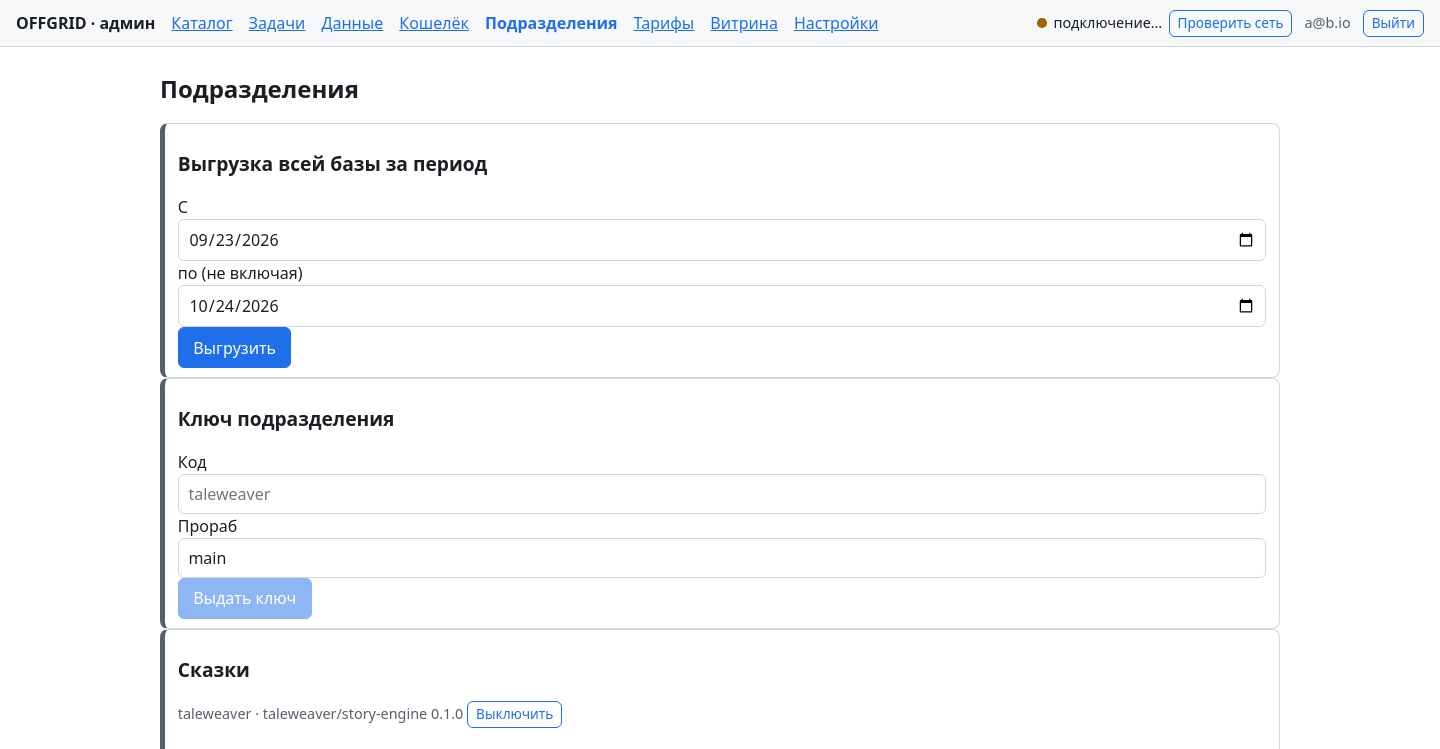
export downloads the whole database for the chosen period
This screenshot has width=1440, height=749.
Expected: the heading "Сказки" is shown, [178,656,250,683]
Type "2026-10-01" into the date field labelled "С" at x=722, y=240, box [178,219,1266,261]
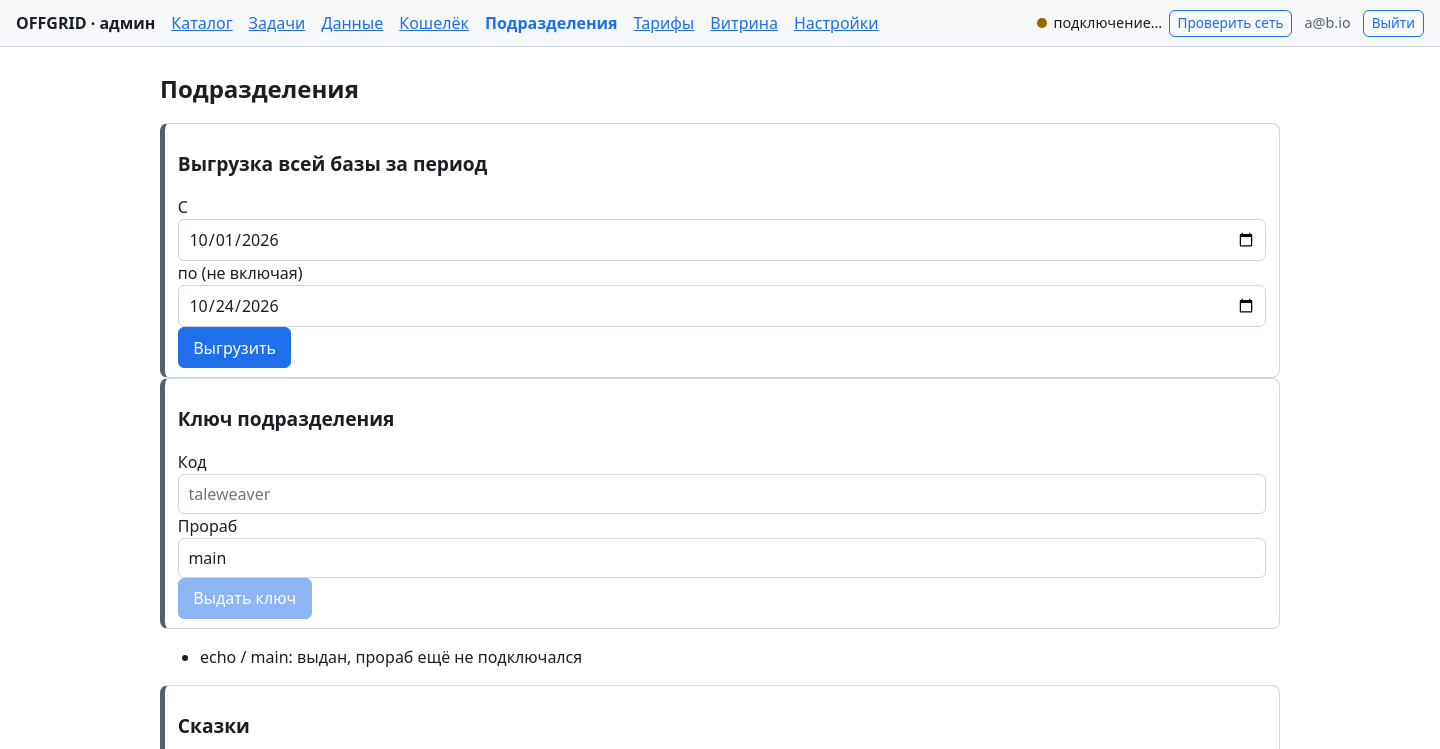
Type "2026-10-16" into the date field labelled "по (не включая)" at x=722, y=306, box [178,285,1266,327]
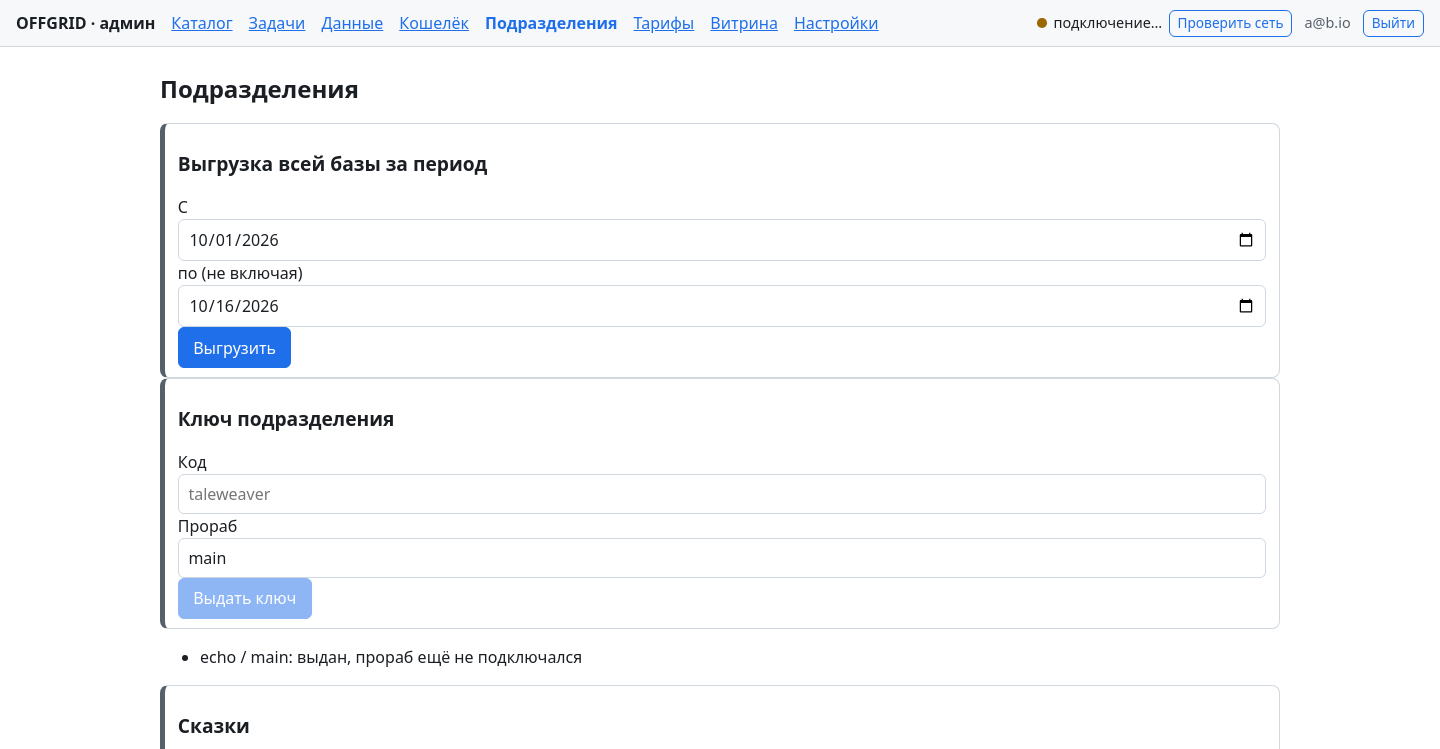
Click the button "Выгрузить" at x=235, y=348, box [178,327,292,368]
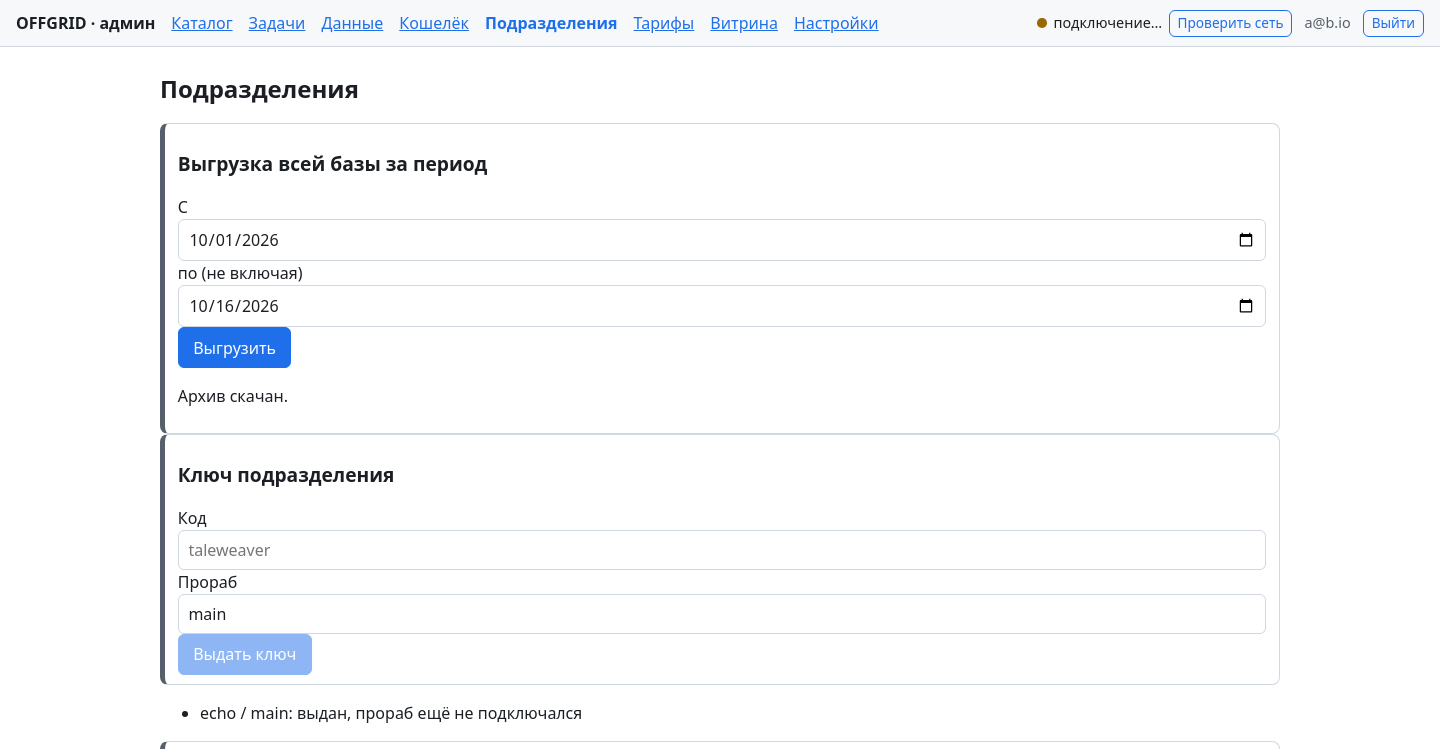
Expected: the text "Архив скачан." is shown, [178,385,288,407]
